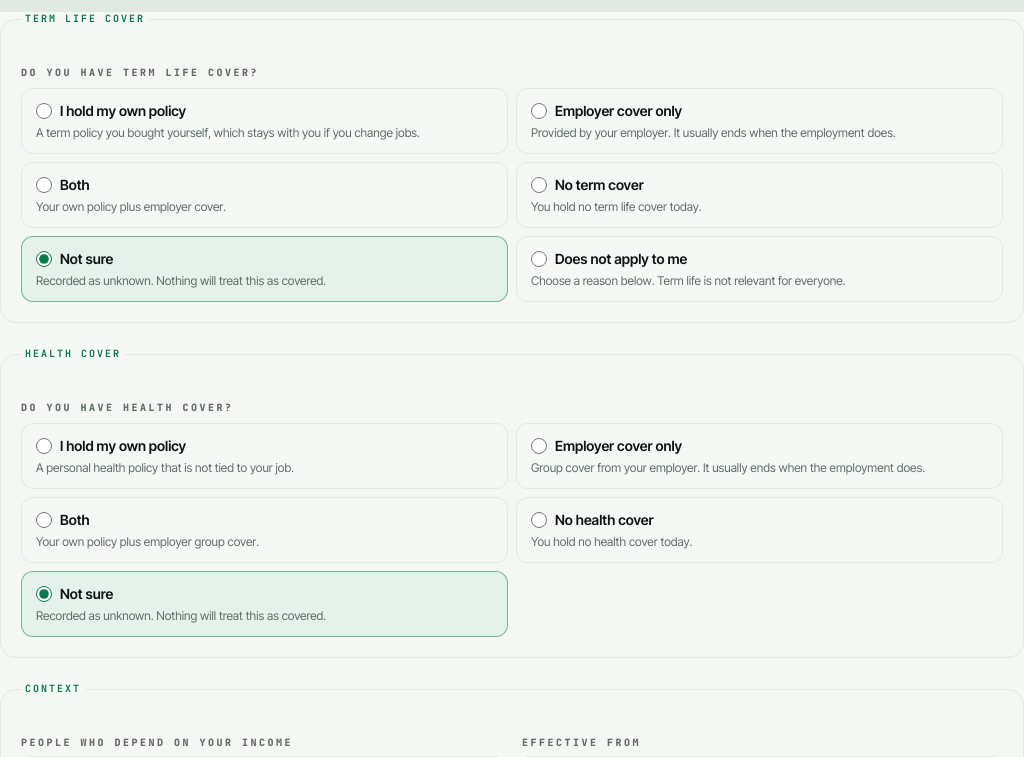
ProtectionProfileForm conditional fields › asks for a structured not-applicable reason with no free-text option
Click the radio button labelled "Does not apply to me".
click(539, 259)  # box [531,251,547,267]
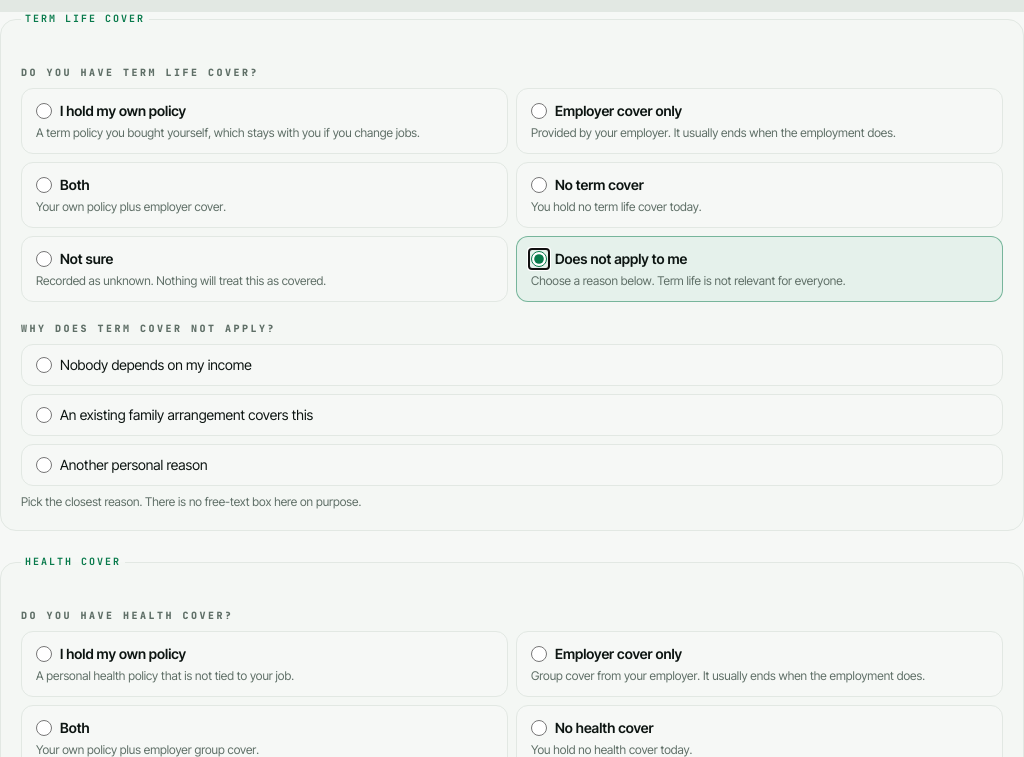
Check: the element named "Why does term cover not apply" is shown, box [21,344,1003,486]
Check: the radio button labelled "Nobody depends on my income" is shown, box [36,357,52,373]
Check: the text "no free-text box here on purpose" is shown, box [21,494,361,509]
